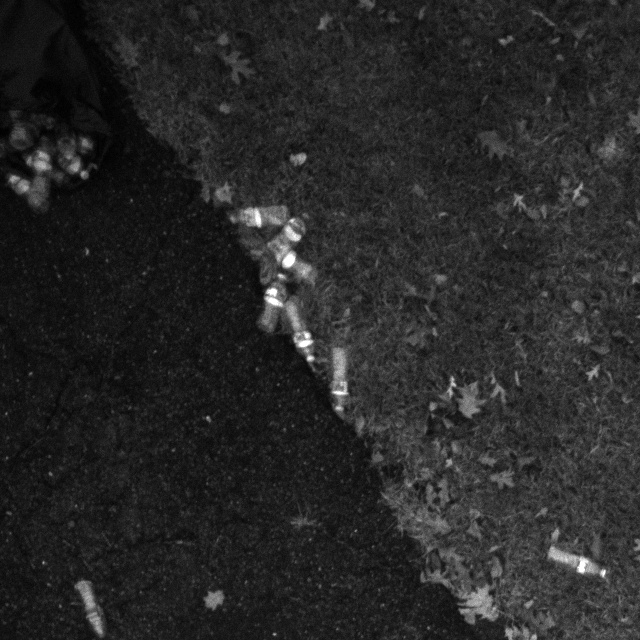bottle: (237, 241, 325, 289), (244, 217, 311, 279), (20, 136, 68, 222), (538, 537, 613, 589), (280, 298, 328, 374), (221, 193, 301, 237), (65, 572, 115, 640), (251, 274, 294, 343), (320, 344, 354, 424)
